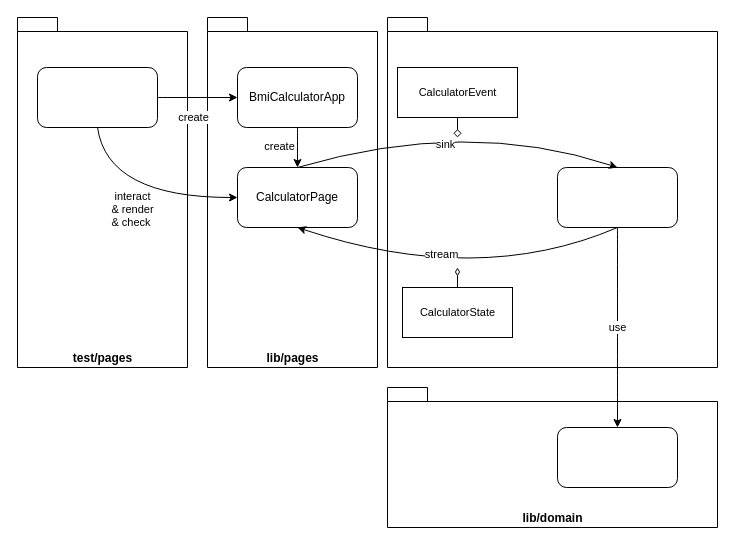
Some shapes in this 735 by 545 pixel diagram are drawn without their labels. Here are the shapes that lost their labels. From the top down, the box of each, then its label:
(36, 66, 158, 128): CalculatorPageTest
(386, 16, 718, 368): lib/bloc
(556, 166, 678, 228): CalculatorBloc
(556, 426, 678, 488): BmiCalculator
